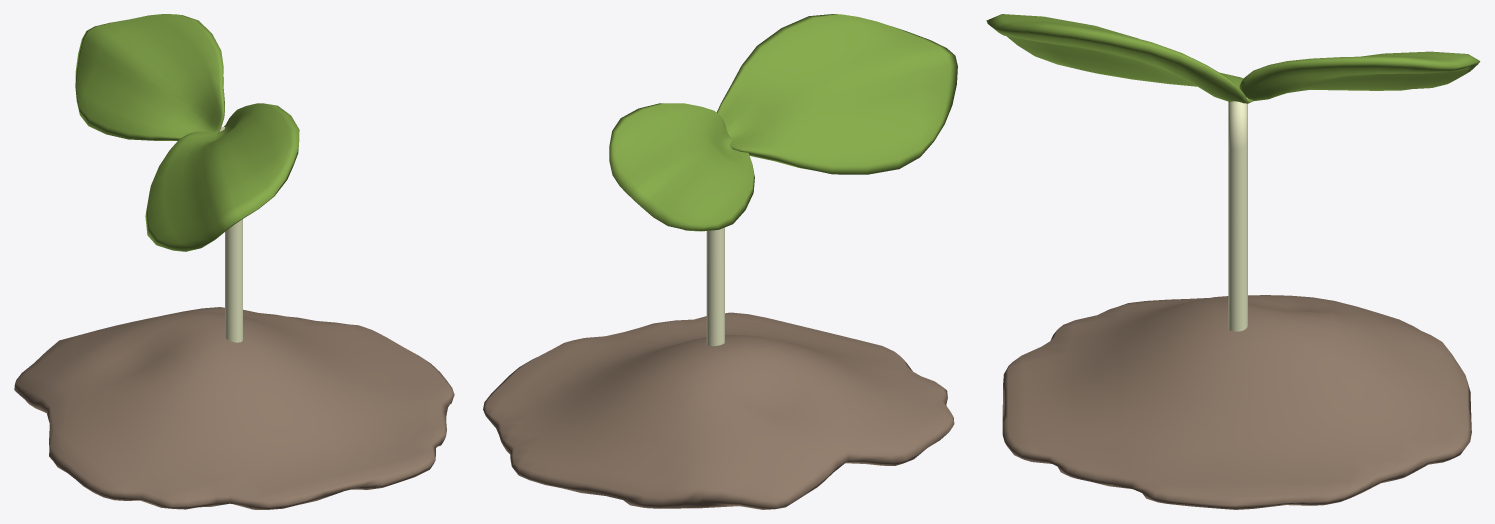
Rendered from seed3.fbx.
3 views of the same model, side by side, from view 1: azimuth 30°, elevation 25°; view 2: azimuth 150°, elevation 25°; view 3: azimuth 270°, elevation 25° (orthographic). The views are drawn at different scales.
Parts seen in each view (by area): view 1: pPlane1, polySurface3, polySurface4, pCylinder1; view 2: pPlane1, polySurface4, polySurface3, pCylinder1; view 3: pPlane1, polySurface4, polySurface3, pCylinder1.
Part boxes in pixels (x1=…): pPlane1: x1=14, y1=307, x2=454, y2=509; polySurface3: x1=75, y1=14, x2=224, y2=140; polySurface4: x1=145, y1=103, x2=299, y2=251; pCylinder1: x1=219, y1=127, x2=242, y2=342; pPlane1: x1=483, y1=312, x2=954, y2=509; polySurface4: x1=717, y1=14, x2=957, y2=174; polySurface3: x1=609, y1=103, x2=754, y2=231; pCylinder1: x1=706, y1=227, x2=724, y2=346; pPlane1: x1=1002, y1=295, x2=1471, y2=509; polySurface4: x1=986, y1=14, x2=1253, y2=103; polySurface3: x1=1239, y1=51, x2=1480, y2=101; pCylinder1: x1=1228, y1=97, x2=1247, y2=331.
Bounding box in the file's own units: 2.72 × 2.35 × 2.83.
